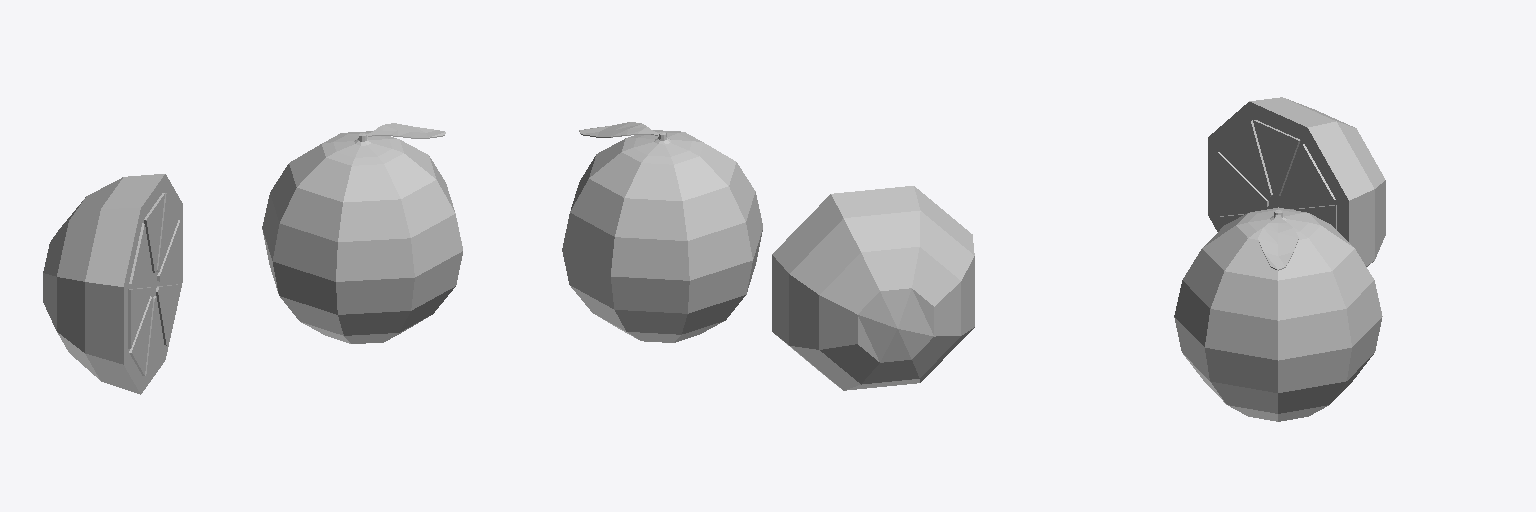
File: Orange.obj
The picture shows the model from 3 angles: view 1: azimuth 30°, elevation 25°; view 2: azimuth 150°, elevation 25°; view 3: azimuth 270°, elevation 25°; orthographic projection.
Parts seen in each view (by area): view 1: Orange, HOrange; view 2: Orange, HOrange; view 3: Orange, HOrange.
Boxes of the visible parts, box(x1,y1,x2,y2) form: Orange: box(262, 123, 462, 343); HOrange: box(43, 174, 182, 394); Orange: box(562, 122, 762, 342); HOrange: box(772, 186, 974, 390); Orange: box(1174, 207, 1382, 421); HOrange: box(1208, 97, 1385, 266).
Bounding box in the file's own units: 0.1763 × 0.0826 × 0.0823.